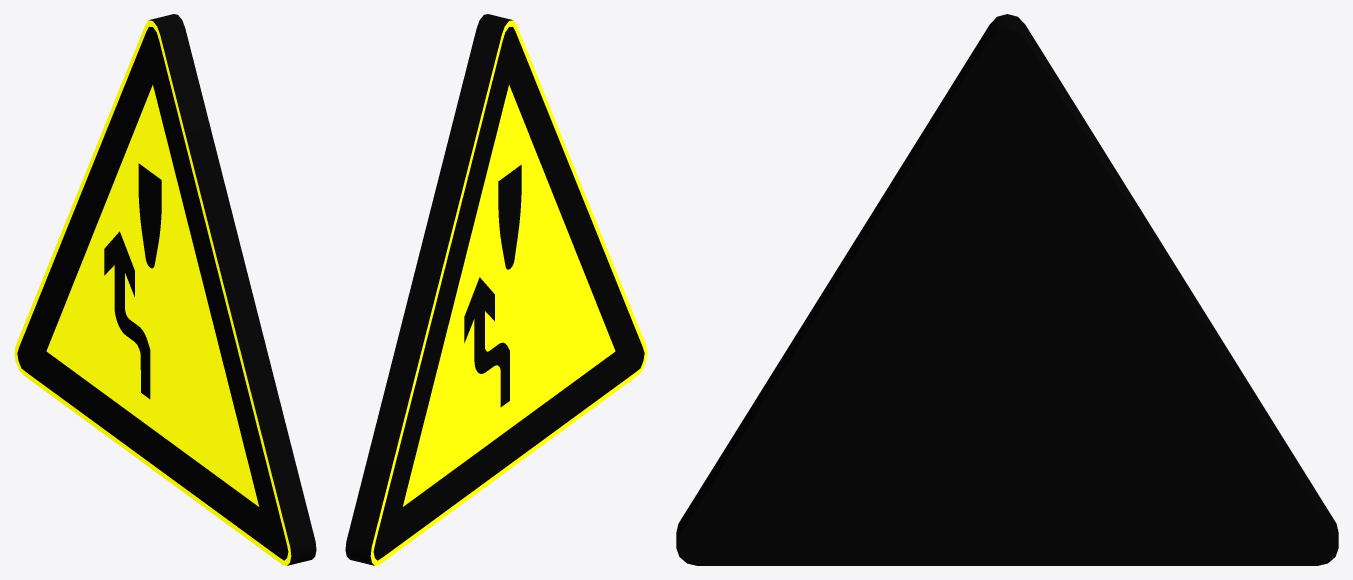
File: Detour_On_The_Left.glb
The picture shows the model from 3 angles, left to right: view 1: azimuth 30°, elevation 25°; view 2: azimuth 150°, elevation 25°; view 3: azimuth 270°, elevation 25°; orthographic projection. The views are drawn at different scales.
Visible parts, largest first — view 1: Detour_On_The_Left; view 2: Detour_On_The_Left; view 3: Detour_On_The_Left.
Part boxes in pixels (x1,y1,x2,y2): Detour_On_The_Left: [14, 14, 316, 565]; Detour_On_The_Left: [345, 14, 647, 565]; Detour_On_The_Left: [676, 14, 1338, 565].
Bounding box in the file's own units: 0.0643 × 1.02 × 1.14.
